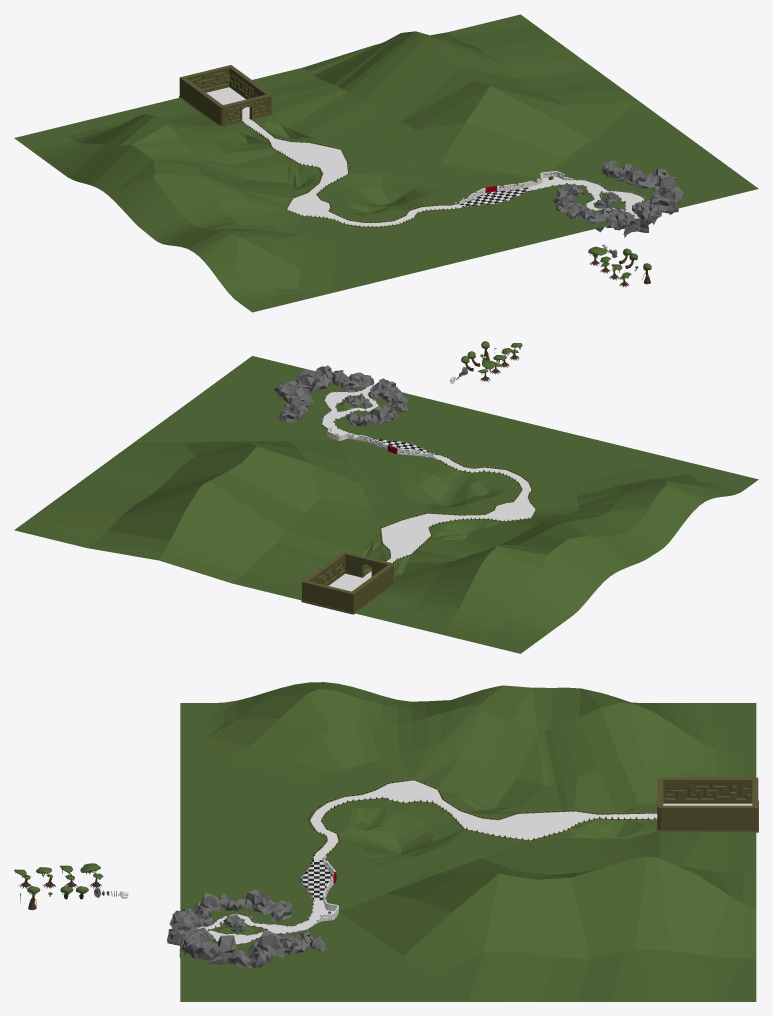
File: Level2LayoutV2.fbx
3 renders of one model, top to bottom at view 1: azimuth 30°, elevation 25°; view 2: azimuth 150°, elevation 25°; view 3: azimuth 270°, elevation 25°, orthographic. The views are drawn at different scales.
Visible parts, largest first — view 1: Plane, Plane.004, Cube.005; view 2: Plane, Plane.004, Cube.005; view 3: Plane, Plane.004, Cube.005, Icosphere.034, Cone.
Boxes of the visible parts, bbox=[...] form: Plane: bbox=[14, 14, 758, 312]; Plane.004: bbox=[206, 87, 643, 226]; Cube.005: bbox=[179, 65, 273, 126]; Plane: bbox=[14, 356, 758, 653]; Plane.004: bbox=[322, 385, 535, 591]; Cube.005: bbox=[301, 552, 394, 614]; Plane: bbox=[180, 682, 756, 1001]; Plane.004: bbox=[196, 780, 752, 944]; Cube.005: bbox=[656, 777, 758, 832]; Icosphere.034: bbox=[209, 935, 238, 964]; Cone: bbox=[308, 778, 654, 855].
Size of the model in its own units: 81013 by 10170 by 85350.
